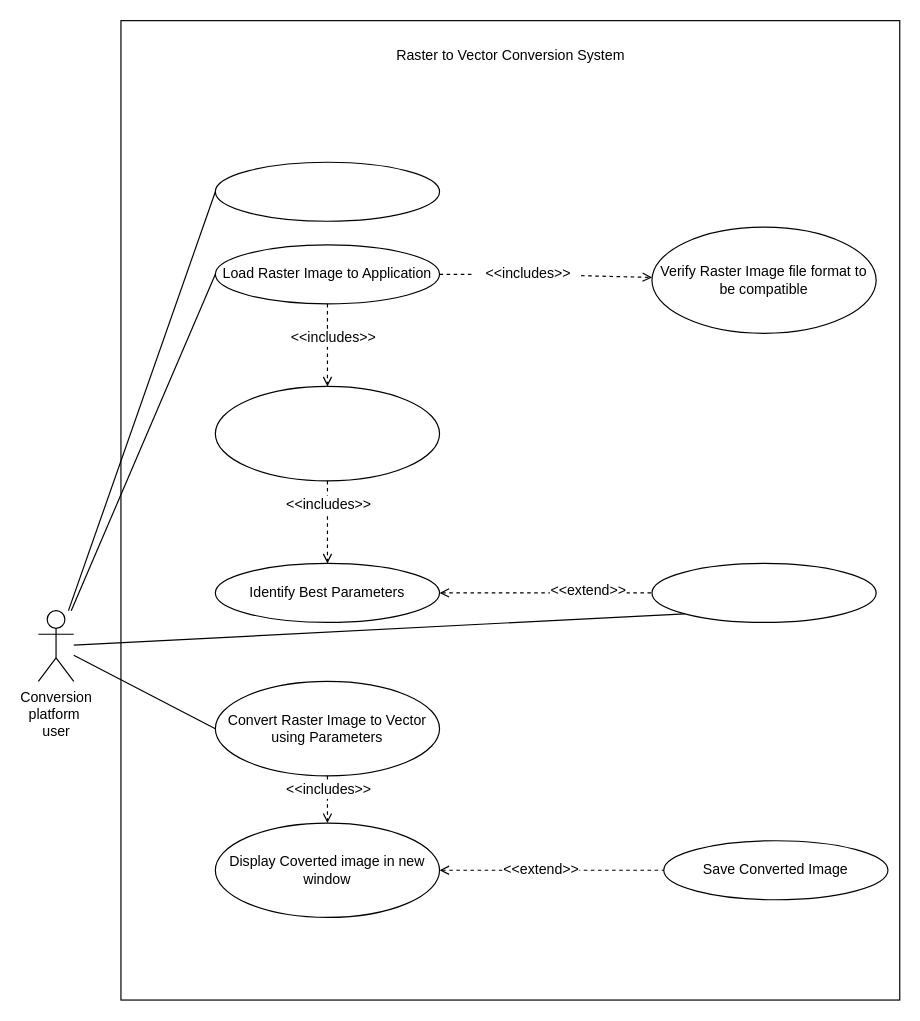
Some shapes in this 920 by 1021 pixel diagram are drawn without their labels. The box of each missing label's shape, as (x1, y1, x2, y2) in pixels:
Allow user to modify Parameters: (651, 562, 876, 622)
Classify Raster with GIS Imagery trained model: (214, 385, 440, 481)
Open Application Window: (214, 161, 440, 221)
